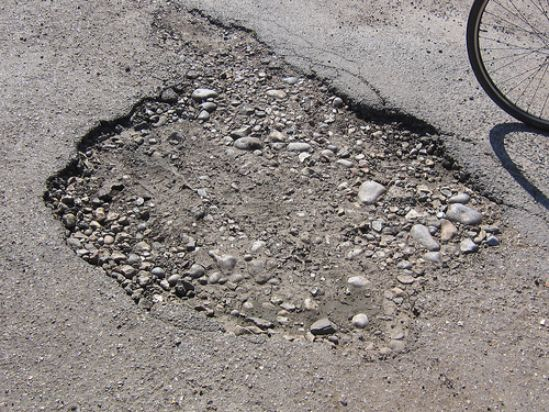pothole: (39, 5, 514, 366)
